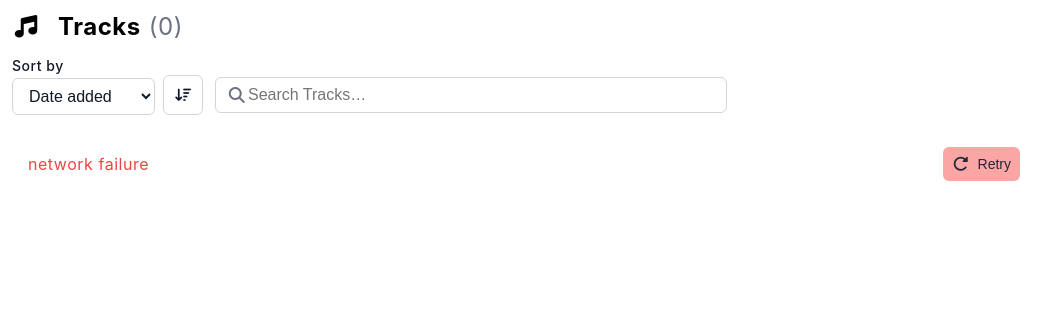
it: TracksView › shows an error banner with a retry button
The width and height of the screenshot is (1048, 320).
Click the button named "Descending". click: (183, 95)
box: [163,75,203,115]
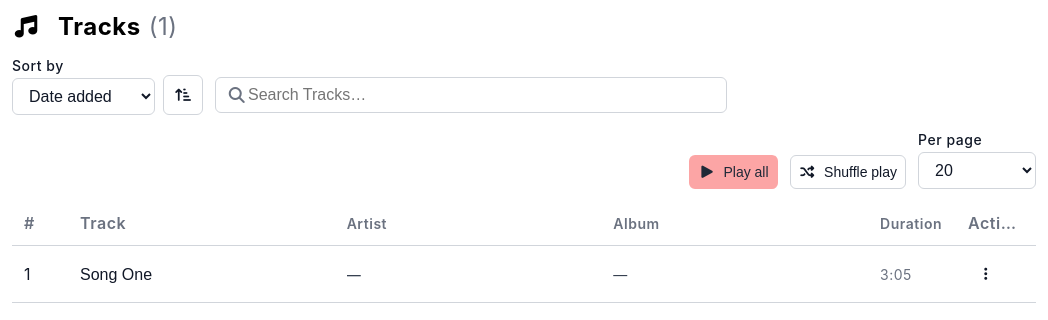
Now the text "Song One" is shown, box [80,266,152,283]
Now the text "network failure" is gone
